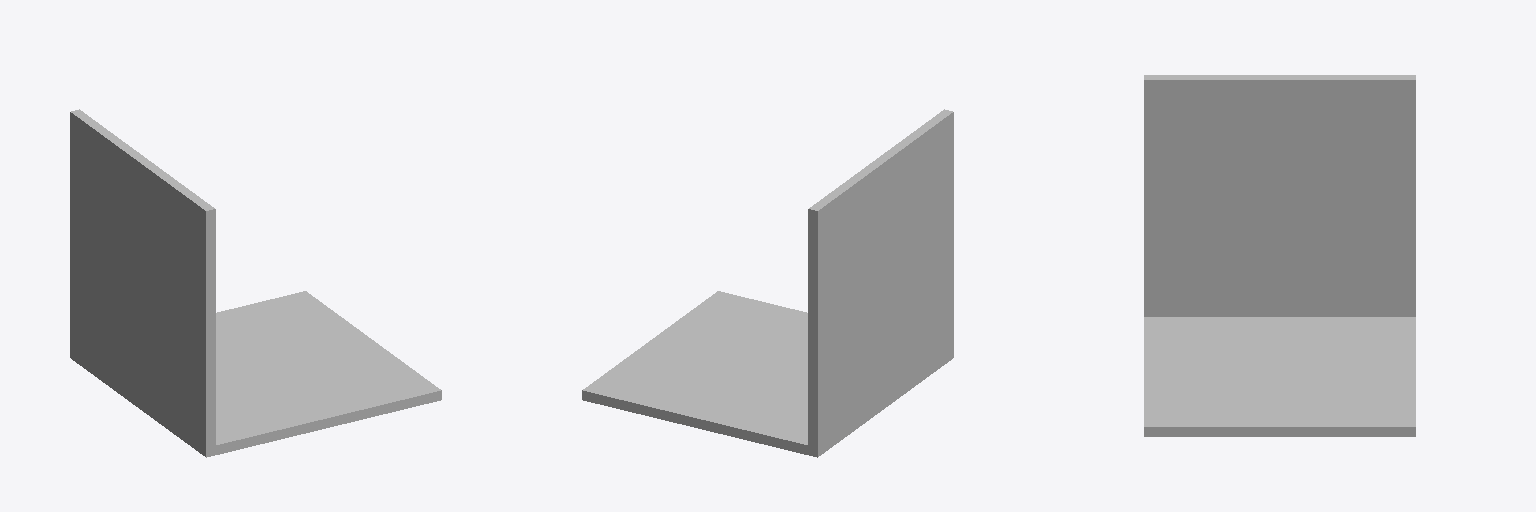
File: coridor_t_topless.obj
3 views of the same model, side by side, from view 1: azimuth 30°, elevation 25°; view 2: azimuth 150°, elevation 25°; view 3: azimuth 270°, elevation 25° (orthographic).
Parts seen in each view (by area): view 1: pillar, floor; view 2: pillar, floor; view 3: pillar, floor.
Part boxes in pixels (bbox=[...]): pillar: bbox=[70, 109, 215, 456]; floor: bbox=[70, 291, 441, 457]; pillar: bbox=[808, 109, 953, 455]; floor: bbox=[582, 291, 953, 457]; pillar: bbox=[1144, 75, 1415, 316]; floor: bbox=[1144, 317, 1415, 436].
Bounding box in the file's own units: 5 × 5 × 5.